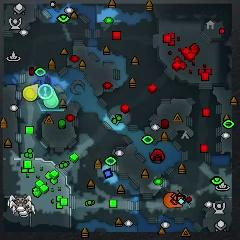Other: (38, 83, 53, 99)
p2: (44, 87, 59, 110)
p4: (22, 83, 39, 103)
p5: (164, 191, 182, 208)
